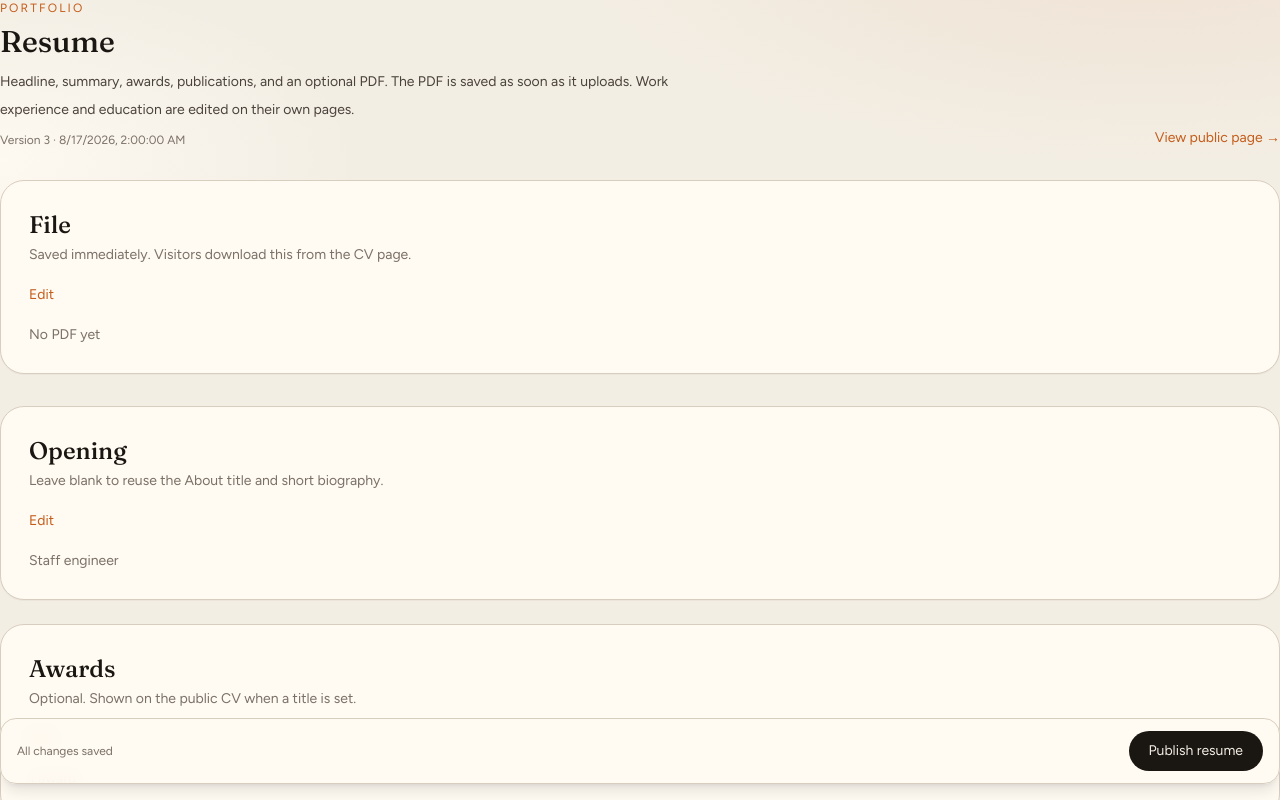
Test: AdminResumePage › keeps published resume content instead of replacing it
The image size is (1280, 800).
Expected: the heading "Resume" is shown, [0,23,115,60]
Expected: the element "Opening" is shown, [0,406,1279,600]
Click the button "Edit" below "Opening": click(42, 521) [29,511,54,531]
(page scrolled)
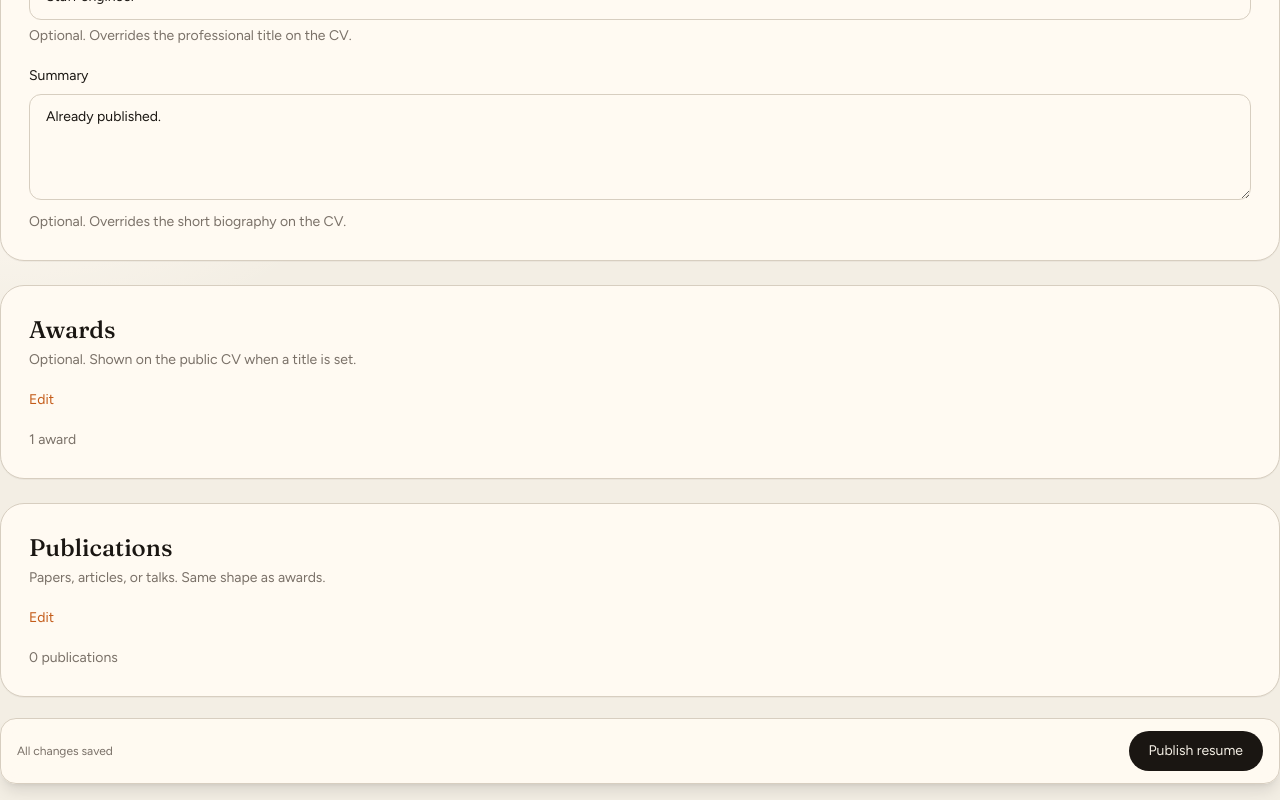
Expected: the element "Awards" is shown, [0,285,1279,479]
Click the 1st button "Edit": click(42, 400) [29,390,54,410]
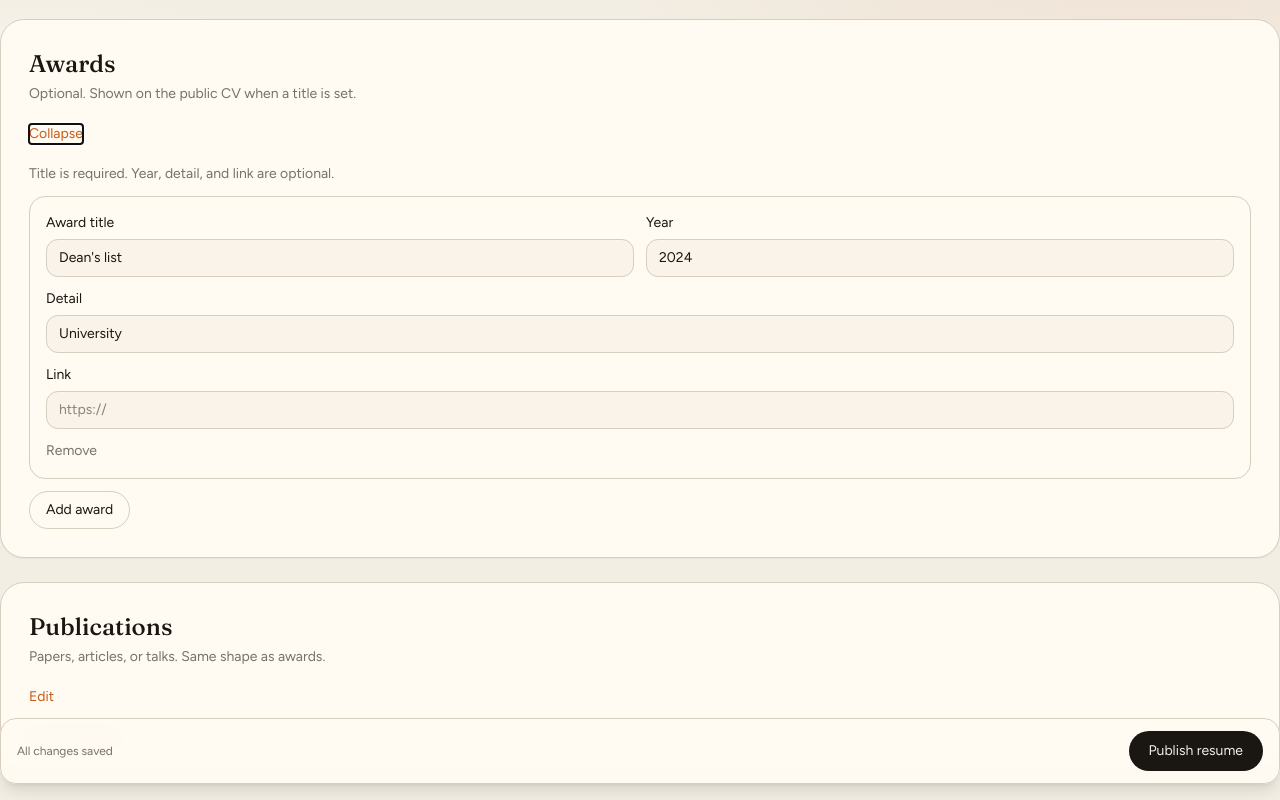
Now the field labelled "Award title" holds "Dean's list", box [46,239,634,277]
